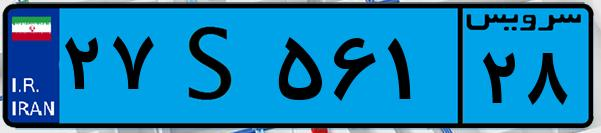1: (385, 28, 445, 110)
2: (57, 26, 110, 100), (475, 38, 525, 113)
5: (270, 28, 330, 110)
6: (330, 28, 385, 110)
7: (110, 28, 158, 98)
8: (525, 38, 570, 115)
S: (158, 12, 270, 120)
